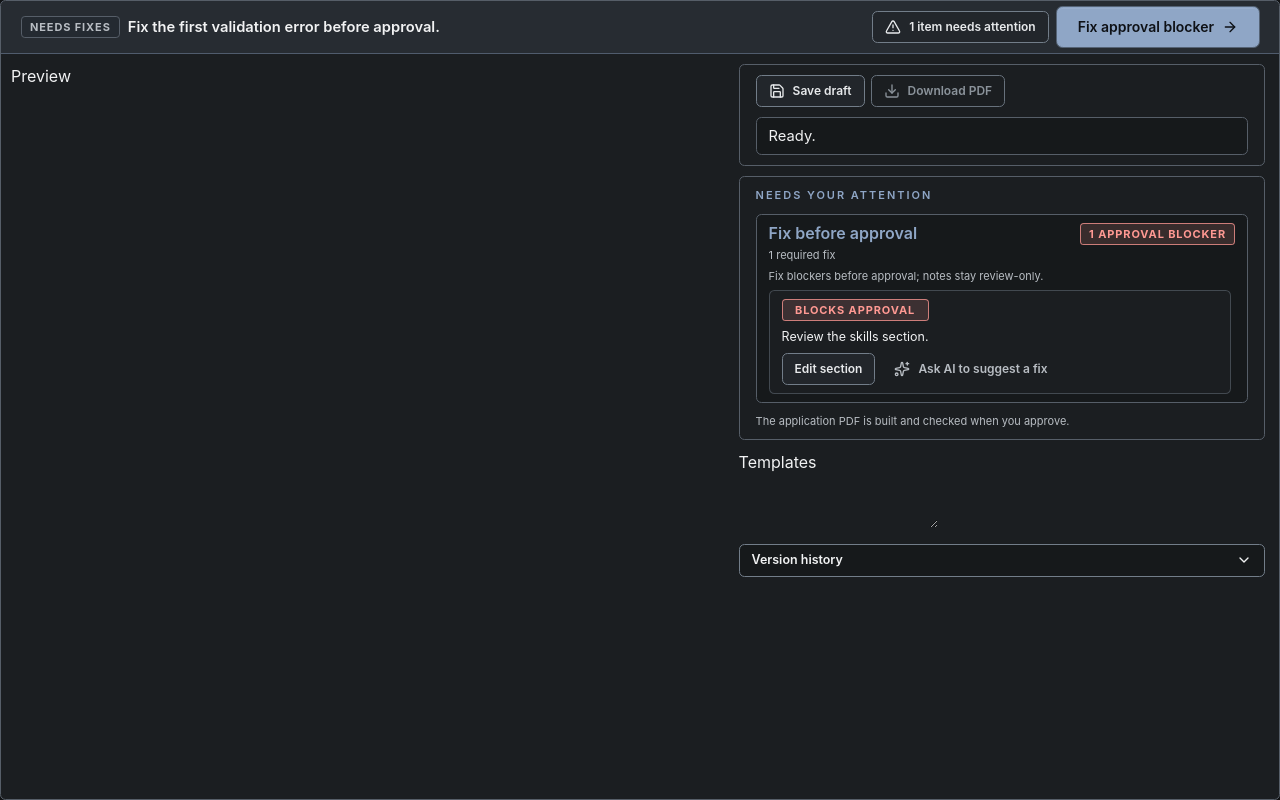
Test: ResumeWorkspaceStudioShell › opens a section card for a section-only issue without claiming an exact field
Click the button with aria-label "Edit section: Review the skills section.": (829, 369) [782,353,876,385]
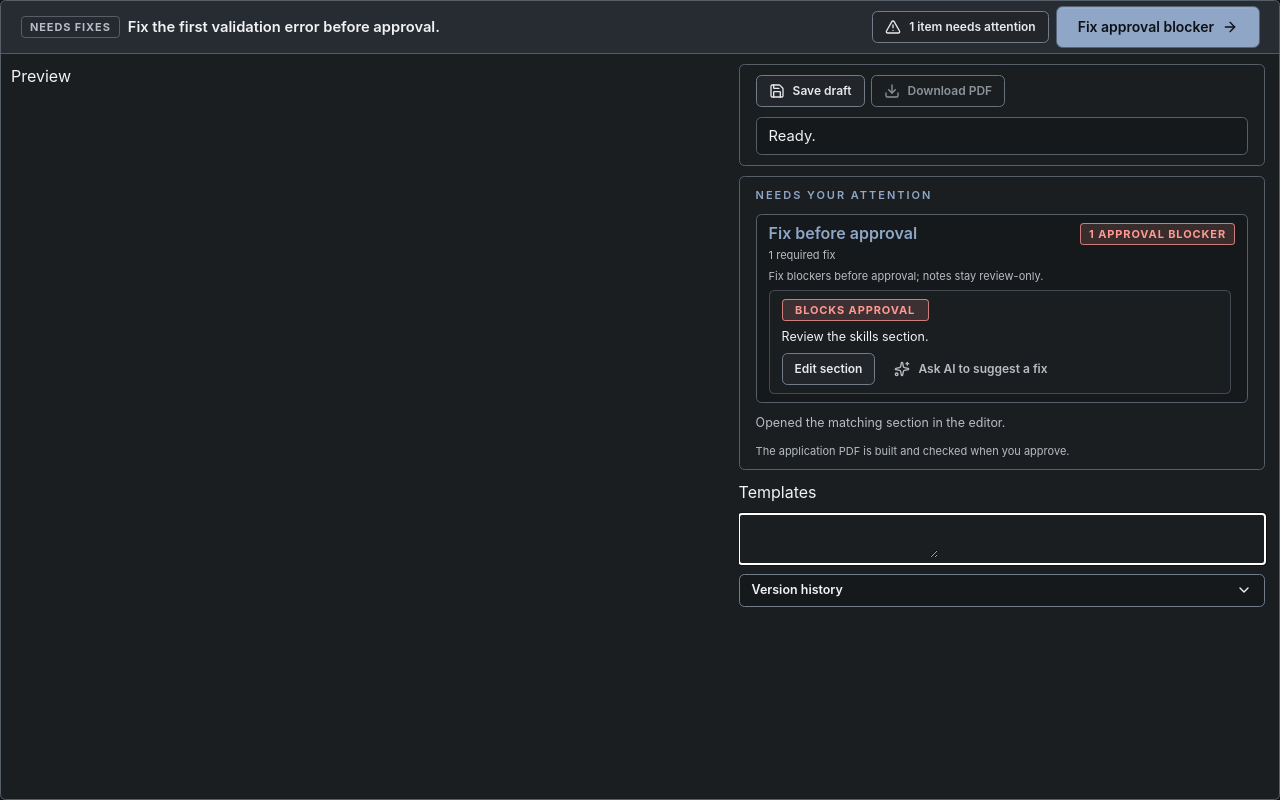
Now the text "Opened the matching section in the editor." is shown, box [756,415,1005,430]
